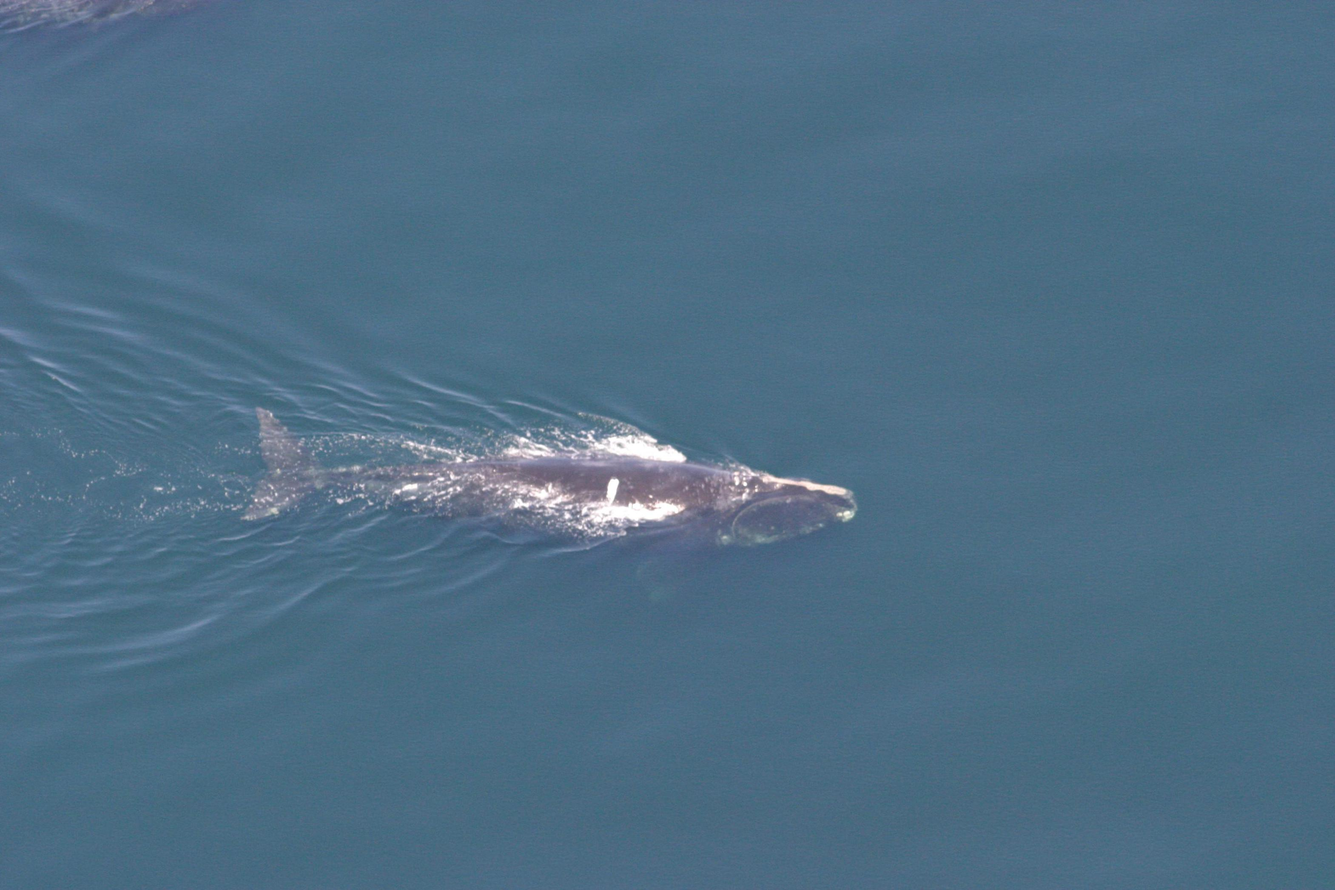whale: (230, 395, 862, 614)
